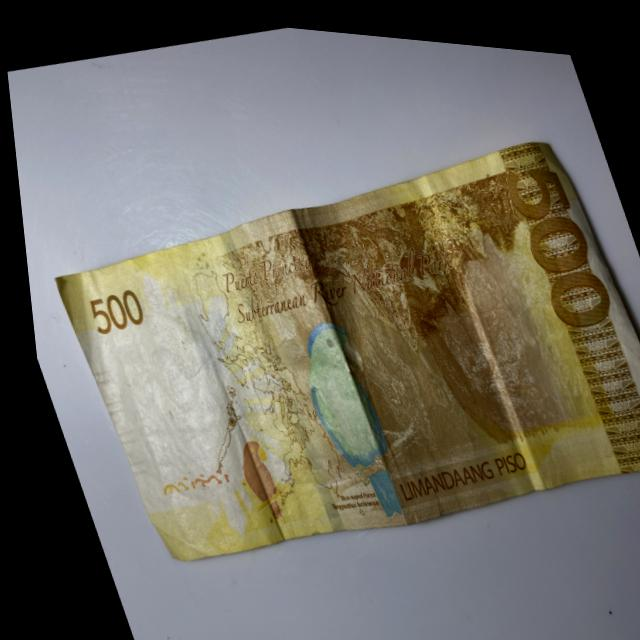500_big_parrot: (279, 306, 405, 519)
500_parrot_watermark: (219, 428, 281, 520)
value_watermark: (117, 401, 151, 457)
